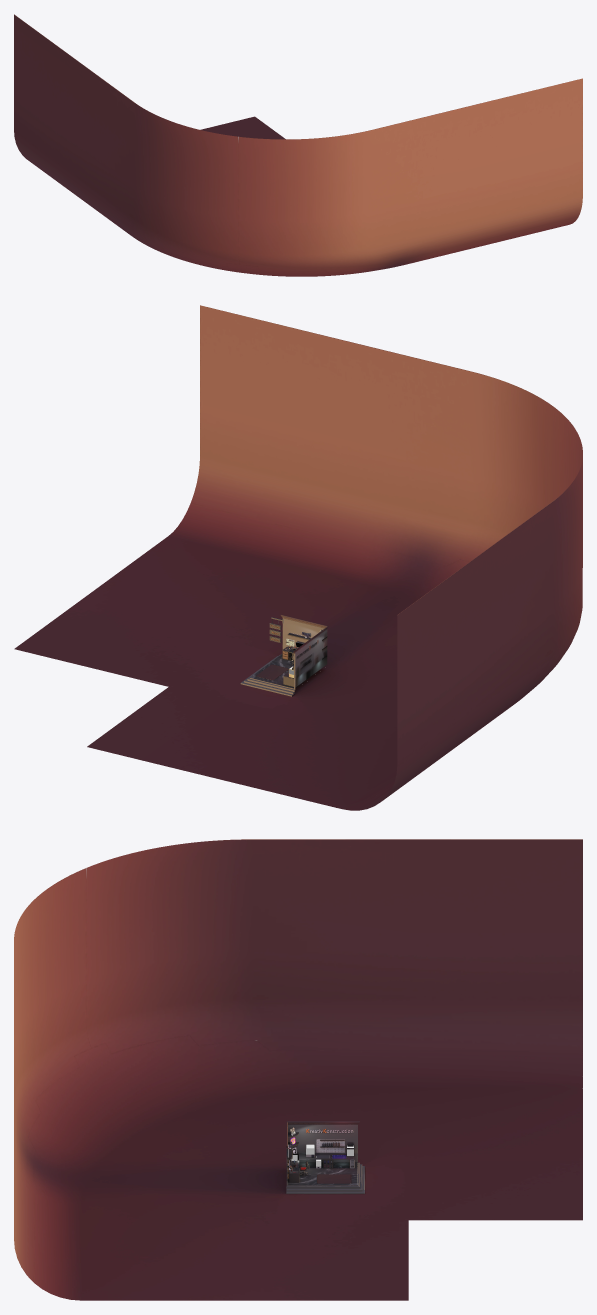
Rendered from RoomUP-v1.glb.
3 views of the same model, one above another, from view 1: azimuth 30°, elevation 25°; view 2: azimuth 150°, elevation 25°; view 3: azimuth 270°, elevation 25° (orthographic). The views are drawn at different scales.
Visible parts, largest first — view 1: 7bake; view 2: 7bake, 6bake; view 3: 7bake, 6bake, 3bake.
Part boxes in pixels (x1,y1,x2,y2): 7bake: (14,14,582,276); 7bake: (14,305,582,810); 6bake: (240,614,328,696); 7bake: (14,839,582,1300); 6bake: (286,1121,364,1193); 3bake: (287,1132,354,1182).
Bounding box in the file's own units: 50001 × 21337 × 49904.
Materials: 12 (7 with a texture image).
